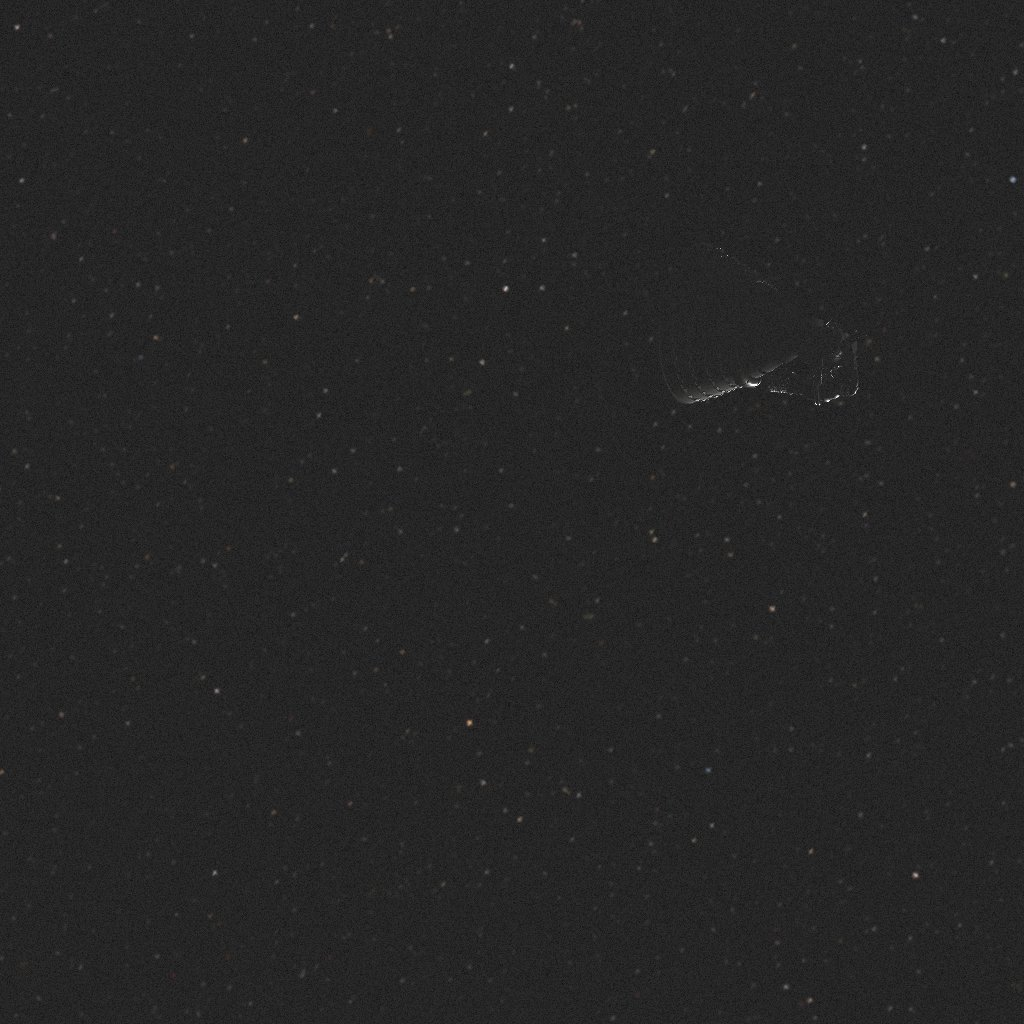debris: (656, 243, 866, 406)
